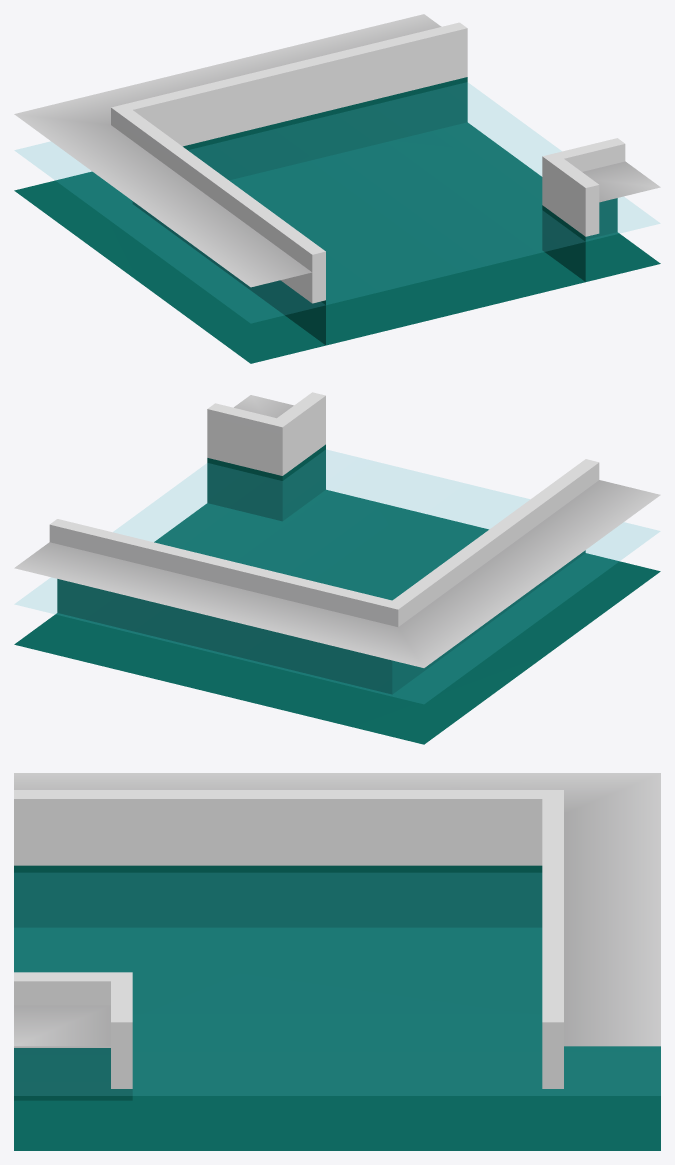
Rendered from Water_03.glb.
The picture shows the model from 3 angles, top to bottom: view 1: azimuth 30°, elevation 25°; view 2: azimuth 150°, elevation 25°; view 3: azimuth 270°, elevation 25°; orthographic projection. The views are drawn at different scales.
Parts seen in each view (by area): view 1: Water_03; view 2: Water_03; view 3: Water_03.
Boxes of the visible parts, x1,y1,x2,y2 form: Water_03: (14,14,660,363); Water_03: (14,392,660,744); Water_03: (14,773,660,1150).
Bounding box in the file's own units: 15 × 3.29 × 15.
2 materials, 2 textured.
